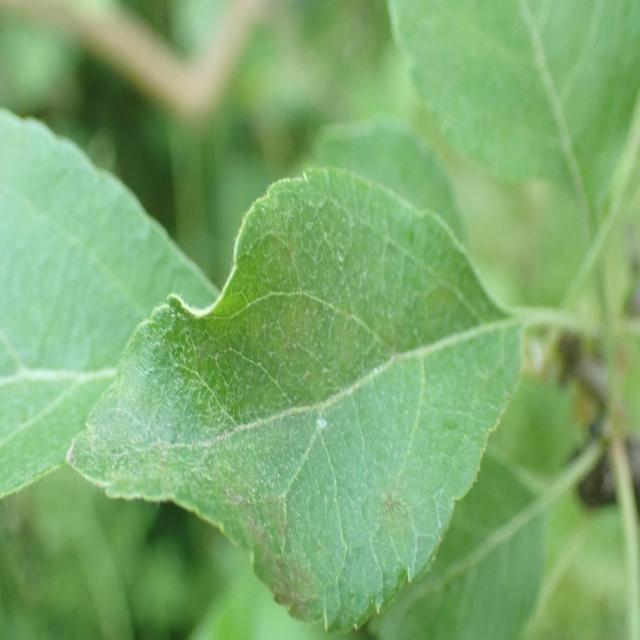scab: (86, 204, 523, 606)
